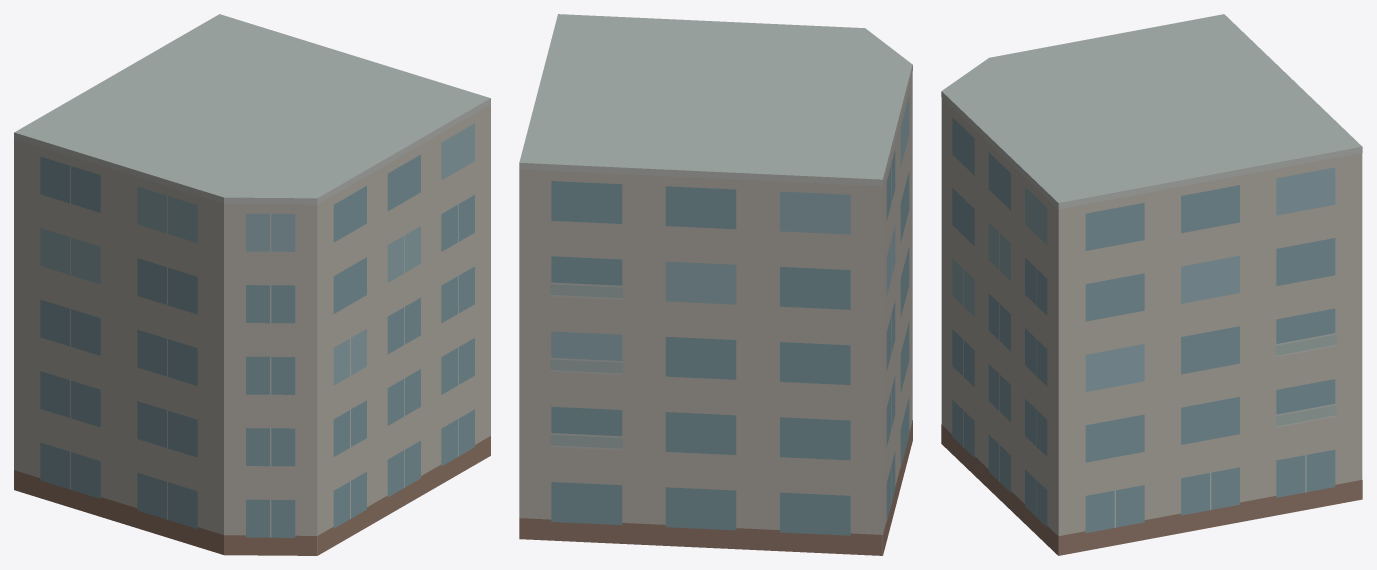
File: survey-upis-33008269.glb
The picture shows the model from 3 angles, left to right: view 1: azimuth 30°, elevation 25°; view 2: azimuth 150°, elevation 25°; view 3: azimuth 270°, elevation 25°; orthographic projection. The views are drawn at different scales.
Visible parts, largest first — view 1: survey-upis-33008269.tmp; view 2: survey-upis-33008269.tmp; view 3: survey-upis-33008269.tmp.
Part boxes in pixels (x1,y1,x2,y2): survey-upis-33008269.tmp: [14, 14, 490, 555]; survey-upis-33008269.tmp: [519, 14, 912, 555]; survey-upis-33008269.tmp: [941, 14, 1362, 555].
Size of the model in its own units: 15.99 by 13.9 by 15.04.
